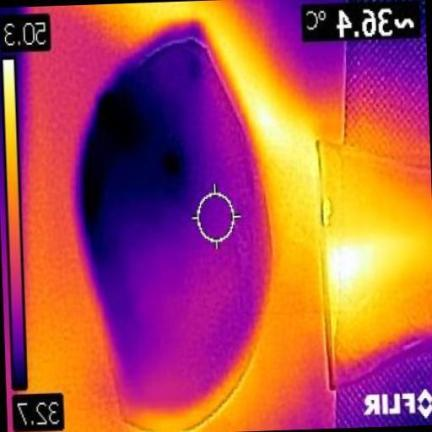mango: (81, 33, 270, 429)
